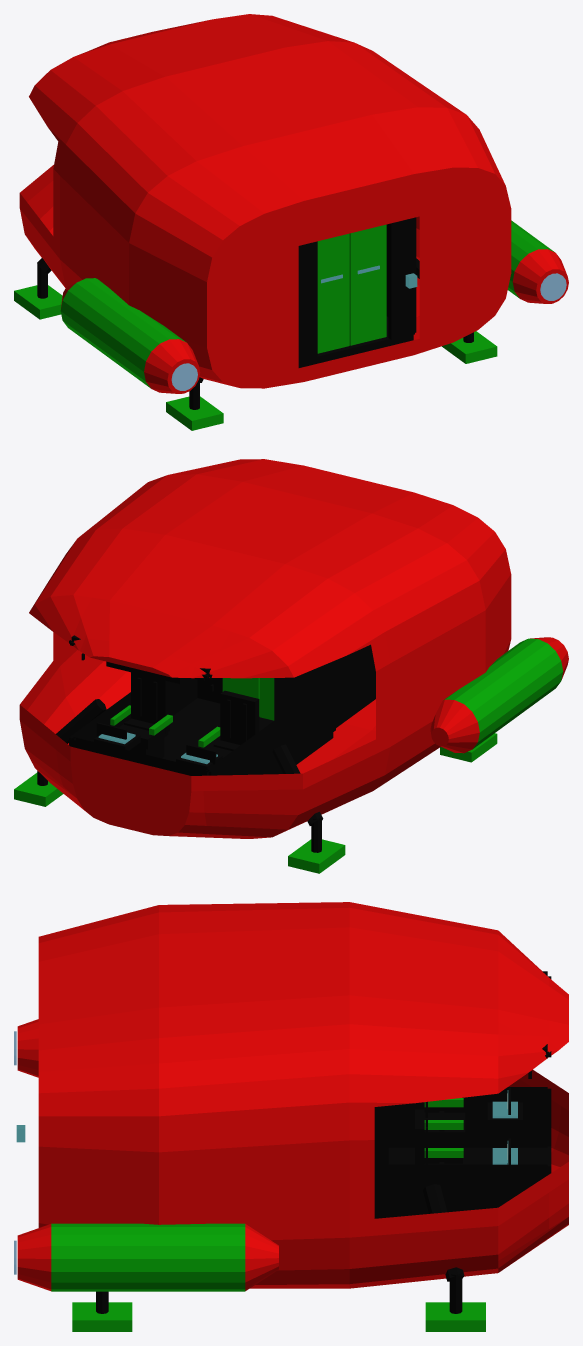
File: drift.glb
3 views of the same model, one above another, from view 1: azimuth 30°, elevation 25°; view 2: azimuth 150°, elevation 25°; view 3: azimuth 270°, elevation 25° (orthographic). The views are drawn at different scales.
Parts seen in each view (by area): view 1: horizon_drift:arrowhead_scout, horizon_drift:field_drive_1, horizon_drift:room_eva, horizon_drift:door_eva-outer_1, horizon_drift:door_eva-outer_-1, horizon_drift:field_drive_2, horizon_drift:gear_2, horizon_drift:gear_0, horizon_drift:gear_3; view 2: horizon_drift:arrowhead_scout, horizon_drift:room_bridge, horizon_drift:field_drive_1, horizon_drift:seat_1, horizon_drift:room_eva, horizon_drift:seat_0, horizon_drift:gear_0, horizon_drift:gear_mounts, horizon_drift:finish_bridge, horizon_drift:gear_1, horizon_drift:furnishings_bridge, horizon_drift:door_eva-inner_1 (+2 smaller); view 3: horizon_drift:arrowhead_scout, horizon_drift:field_drive_2, horizon_drift:room_bridge, horizon_drift:gear_1, horizon_drift:seat_0, horizon_drift:gear_3, horizon_drift:furnishings_bridge, horizon_drift:field_drive_1, horizon_drift:seat_1, horizon_drift:gear_mounts.
Part boxes in pixels (x1,y1,x2,y2): horizon_drift:arrowhead_scout: (19, 14, 511, 388); horizon_drift:field_drive_1: (60, 278, 200, 393); horizon_drift:room_eva: (298, 217, 416, 367); horizon_drift:door_eva-outer_1: (349, 224, 386, 345); horizon_drift:door_eva-outer_-1: (317, 233, 349, 353); horizon_drift:field_drive_2: (508, 220, 568, 303); horizon_drift:gear_2: (166, 381, 223, 430); horizon_drift:gear_0: (14, 262, 62, 319); horizon_drift:gear_3: (442, 331, 497, 363); horizon_drift:arrowhead_scout: (19, 459, 511, 838); horizon_drift:room_bridge: (69, 640, 335, 775); horizon_drift:field_drive_1: (430, 637, 568, 753); horizon_drift:seat_1: (110, 672, 172, 758); horizon_drift:room_eva: (336, 644, 375, 727); horizon_drift:seat_0: (198, 690, 259, 757); horizon_drift:gear_0: (288, 817, 345, 873); horizon_drift:gear_mounts: (56, 699, 323, 825); horizon_drift:finish_bridge: (81, 653, 216, 764); horizon_drift:gear_1: (14, 771, 63, 806); horizon_drift:furnishings_bridge: (94, 732, 222, 769); horizon_drift:door_eva-inner_1: (222, 678, 259, 716); horizon_drift:arrowhead_scout: (38, 902, 568, 1288); horizon_drift:field_drive_2: (14, 1223, 278, 1291); horizon_drift:room_bridge: (374, 976, 551, 1218); horizon_drift:gear_1: (425, 1272, 485, 1331); horizon_drift:seat_0: (415, 1098, 465, 1163); horizon_drift:gear_3: (72, 1291, 132, 1331); horizon_drift:furnishings_bridge: (487, 1101, 522, 1164); horizon_drift:field_drive_1: (14, 1019, 38, 1077); horizon_drift:seat_1: (415, 1109, 465, 1164); horizon_drift:gear_mounts: (423, 1184, 464, 1281).
Size of the model in its own units: 7.96 by 4.43 by 7.85.
